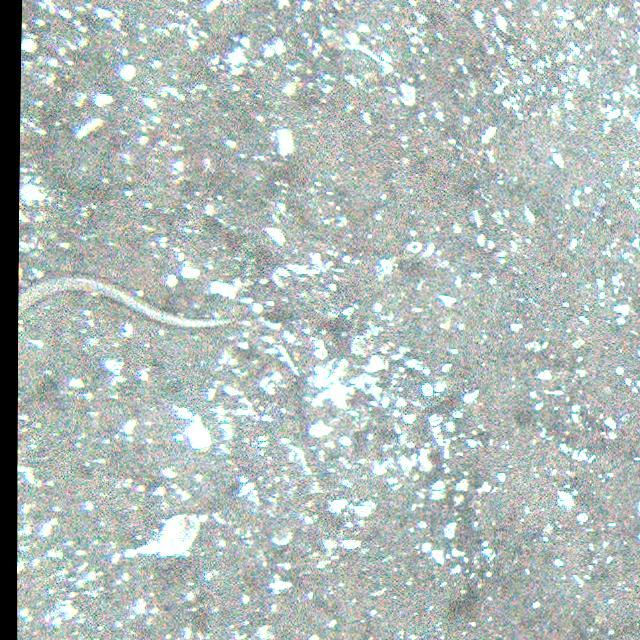eel: (20, 278, 237, 330)
